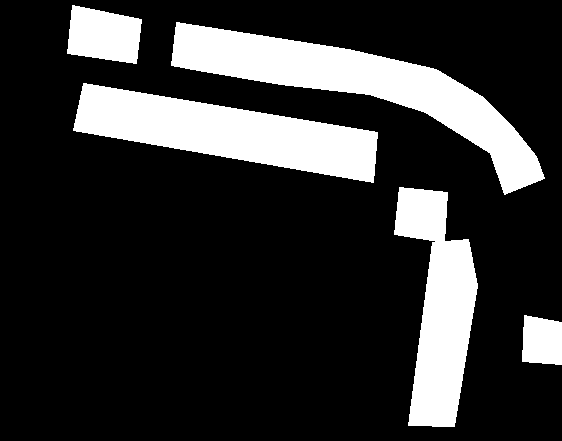parkingspot: (171, 22, 544, 194), (73, 83, 377, 182), (408, 239, 477, 426), (67, 5, 141, 63), (394, 187, 447, 242), (522, 315, 562, 364)
